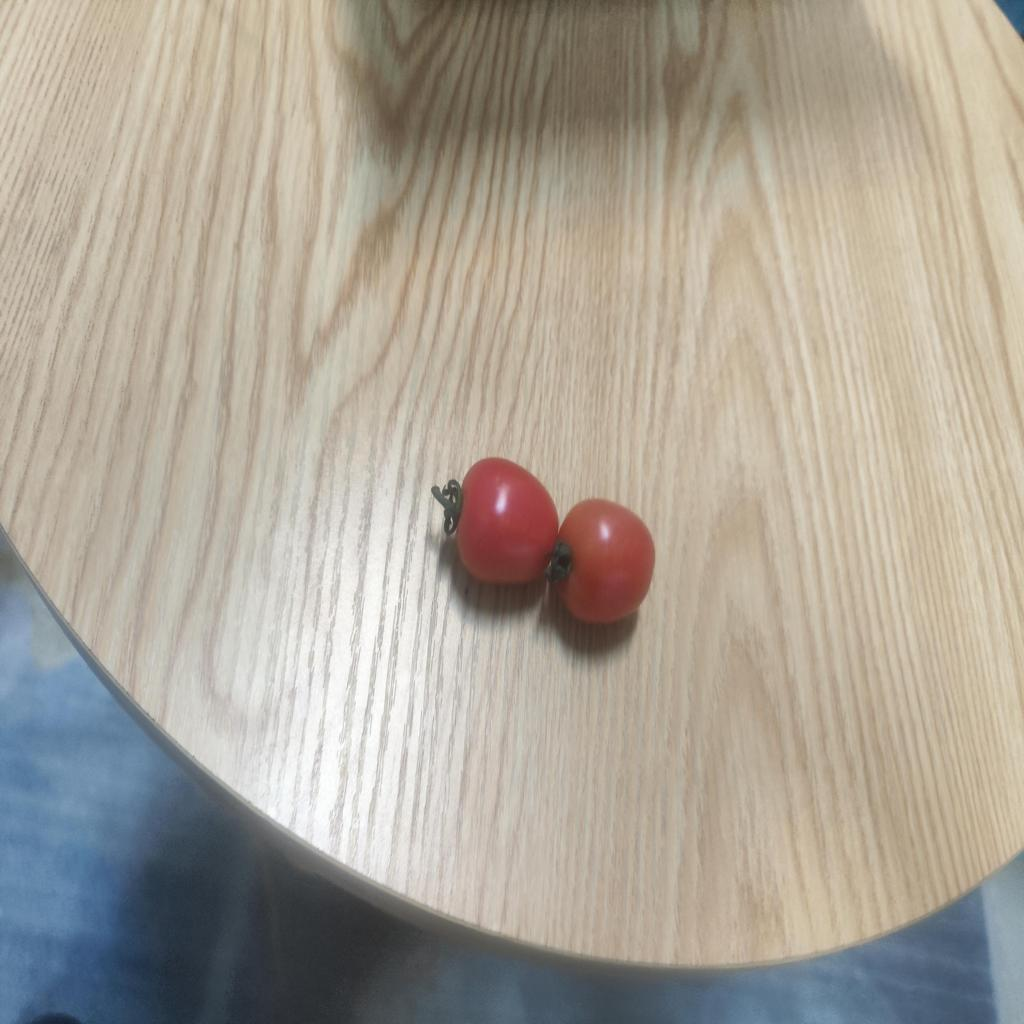tomato: (439, 462, 556, 586), (547, 497, 653, 627)
